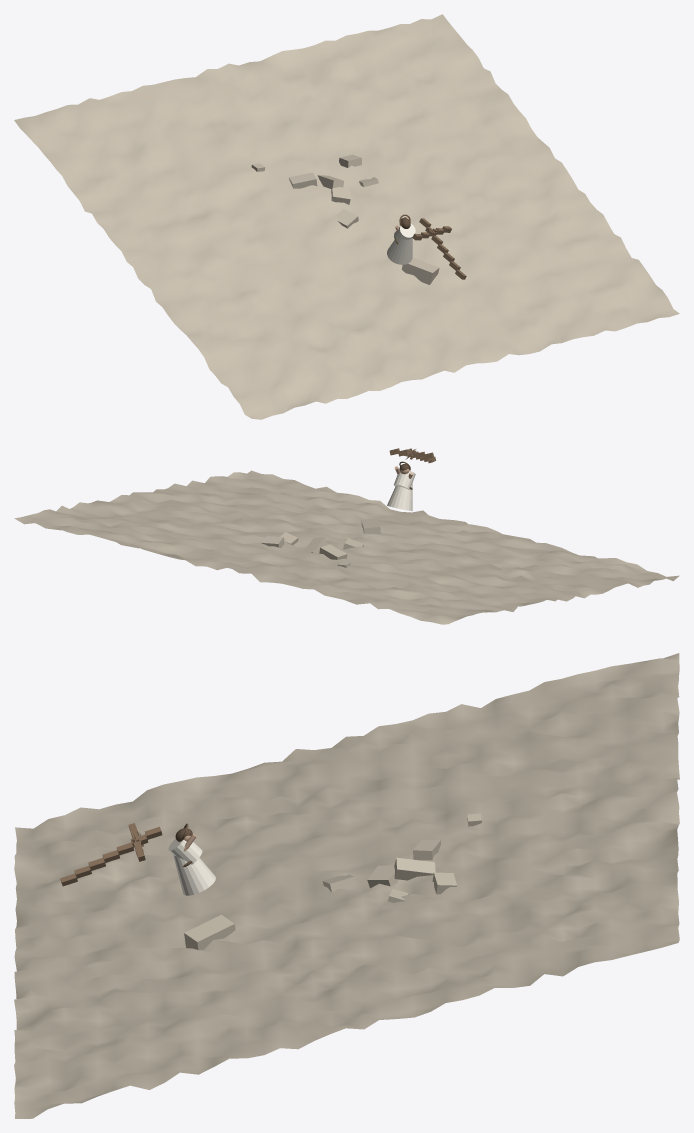
File: Jesus_Carrying_Cross.glb
3 renders of one model, top to bottom at view 1: azimuth 30°, elevation 25°; view 2: azimuth 150°, elevation 25°; view 3: azimuth 270°, elevation 25°, orthographic. The views are drawn at different scales.
Visible parts, largest first — view 1: Golgotha_Incline; view 2: Golgotha_Incline, Robe_Lower, Stone_Ledge_3; view 3: Golgotha_Incline, Robe_Lower, Stone_Ledge_0, Stone_Ledge_4.
Boxes of the visible parts, x1=… form: Golgotha_Incline: x1=14, y1=14, x2=679, y2=419; Golgotha_Incline: x1=14, y1=470, x2=679, y2=624; Robe_Lower: x1=387, y1=483, x2=412, y2=511; Stone_Ledge_3: x1=319, y1=544, x2=347, y2=559; Golgotha_Incline: x1=14, y1=653, x2=679, y2=1118; Robe_Lower: x1=173, y1=855, x2=215, y2=895; Stone_Ledge_0: x1=184, y1=914, x2=235, y2=950; Stone_Ledge_4: x1=394, y1=857, x2=435, y2=880.
Bounding box in the file's own units: 28 × 8.37 × 26.97.
